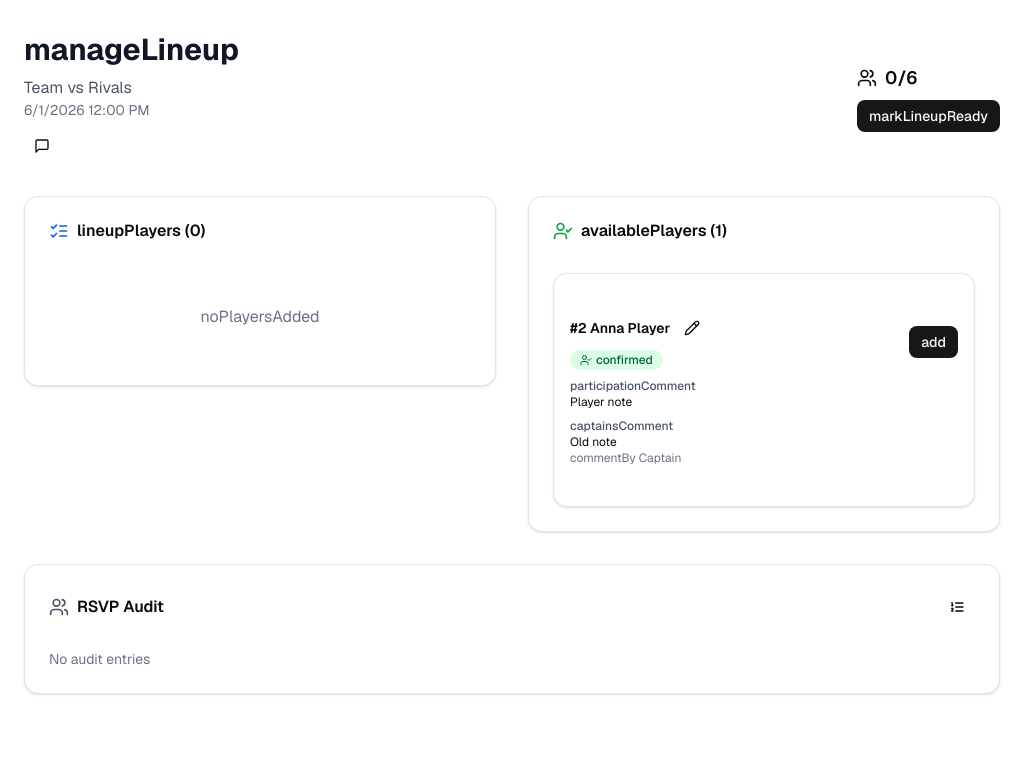
captain RSVP controls › resets an existing RSVP through the no-response radio and saves the comment together
Click the button named "editRsvp" at (692, 328), box x1=678 y1=314 x2=706 y2=342
(page scrolled)
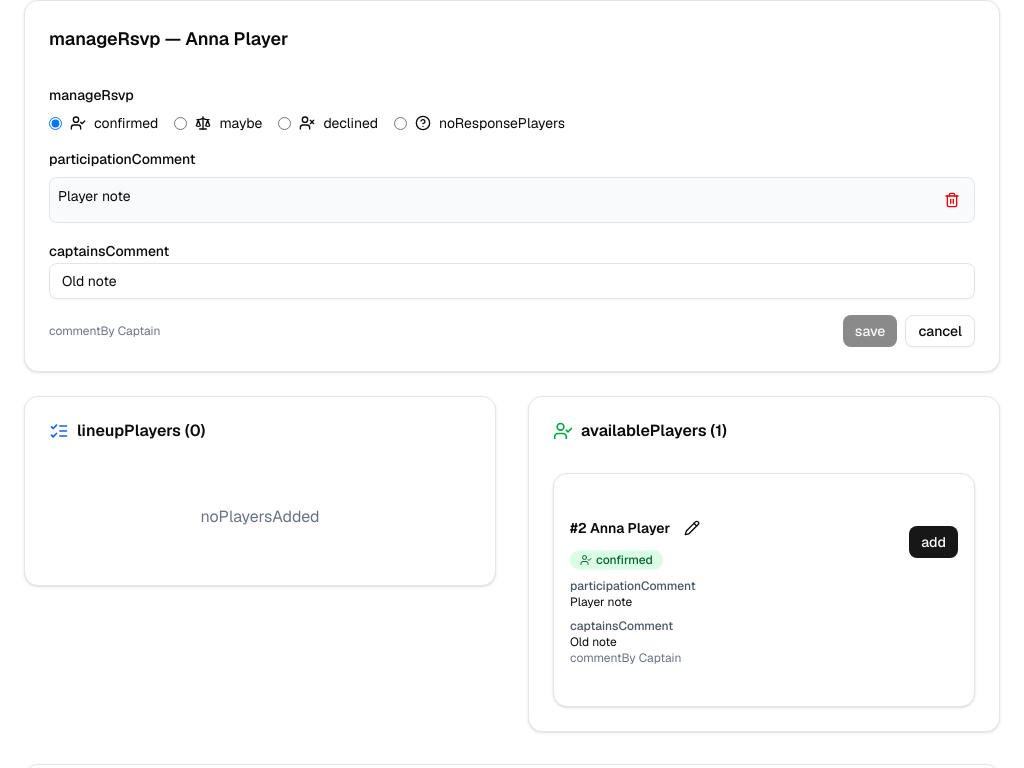
Check: the heading "manageRsvp — Anna Player" is shown, box x1=49 y1=27 x2=288 y2=50
Click the radio button labelled "noResponsePlayers" at (400, 123), box x1=394 y1=116 x2=407 y2=130
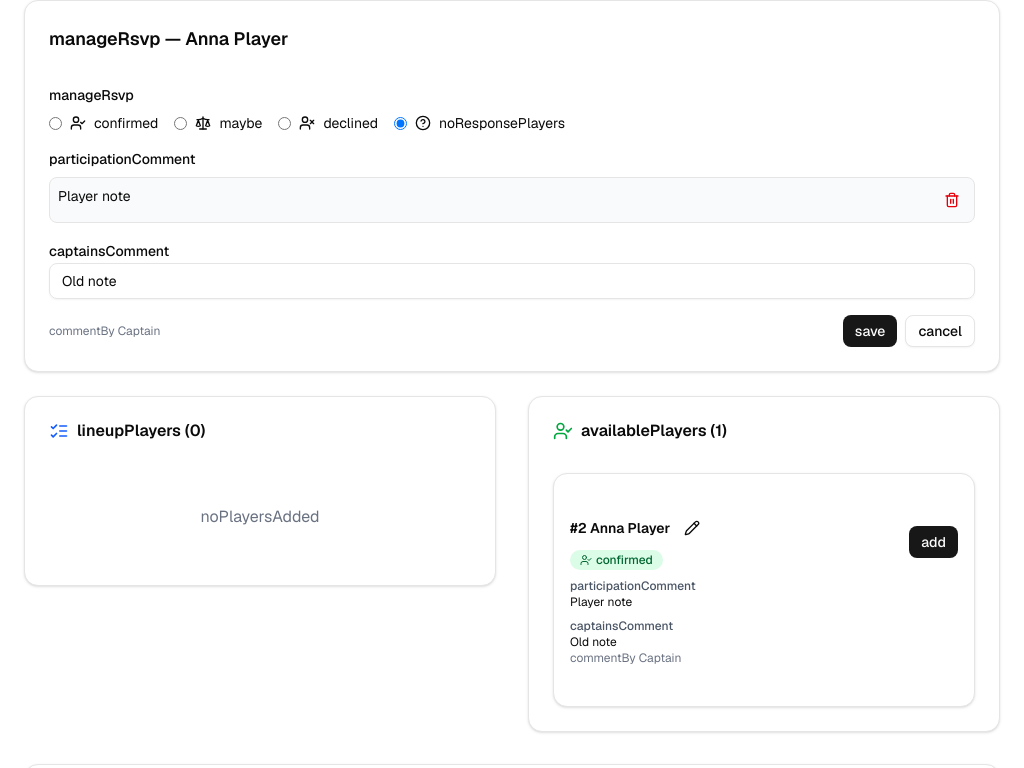
Replace the text in the field labelled "captainsComment" with "New note" at (512, 281), box x1=49 y1=263 x2=975 y2=299
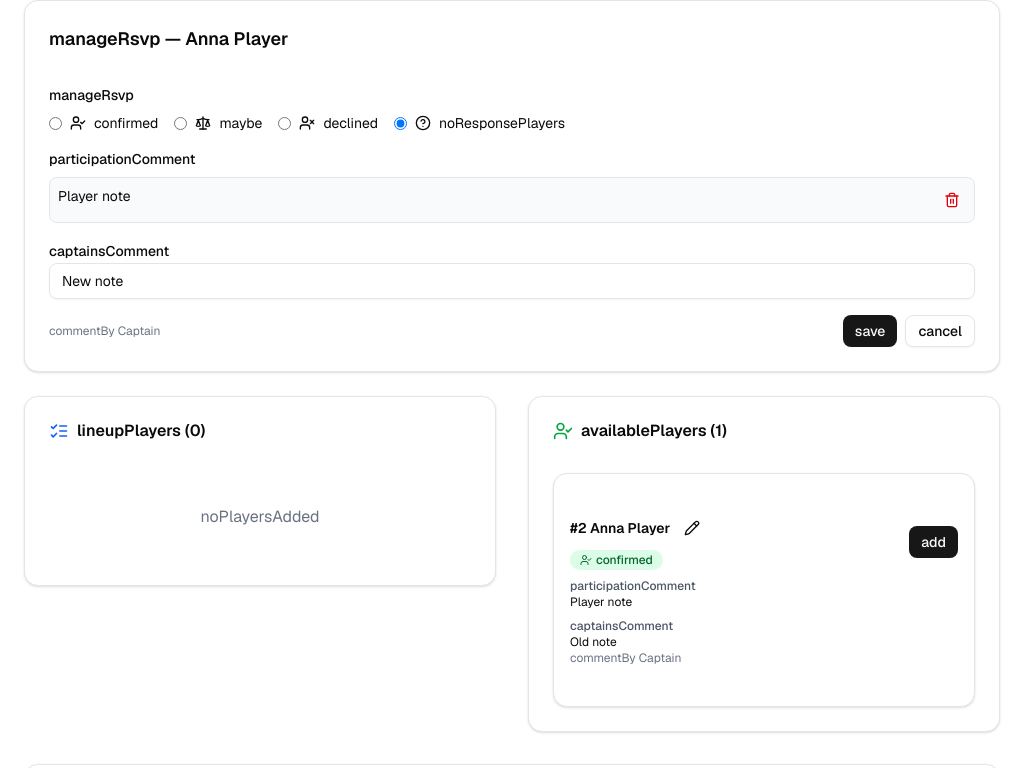
Click the button "save" at (870, 331), box x1=843 y1=315 x2=897 y2=347
(page scrolled)
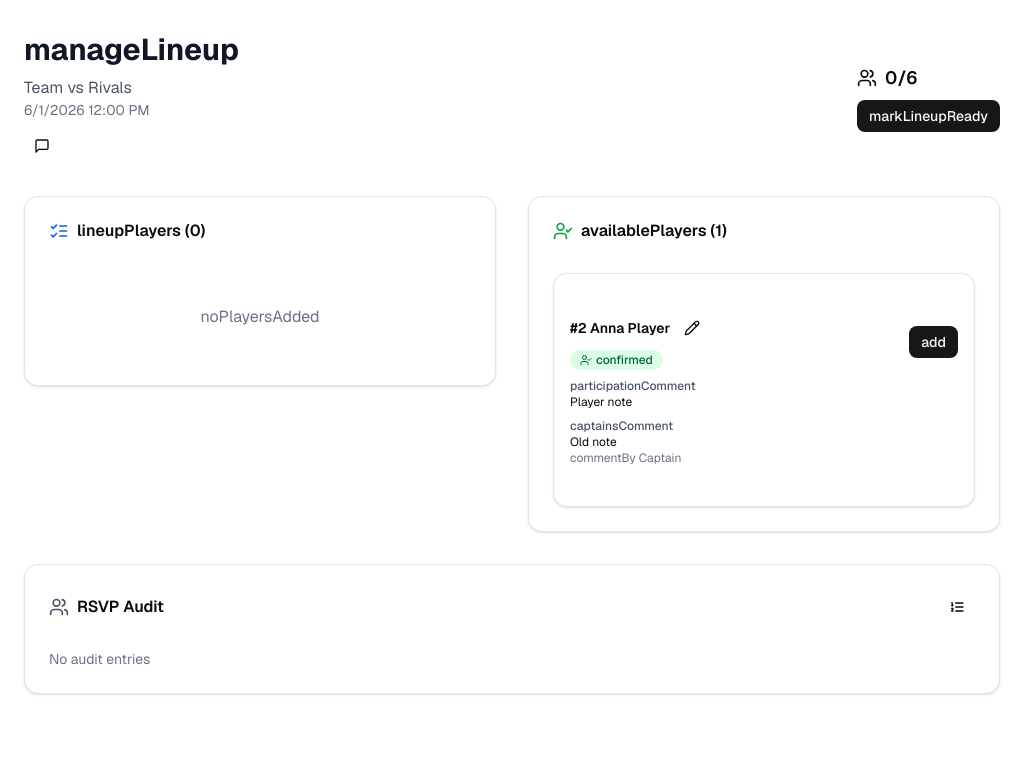
Check: the radio button is gone
